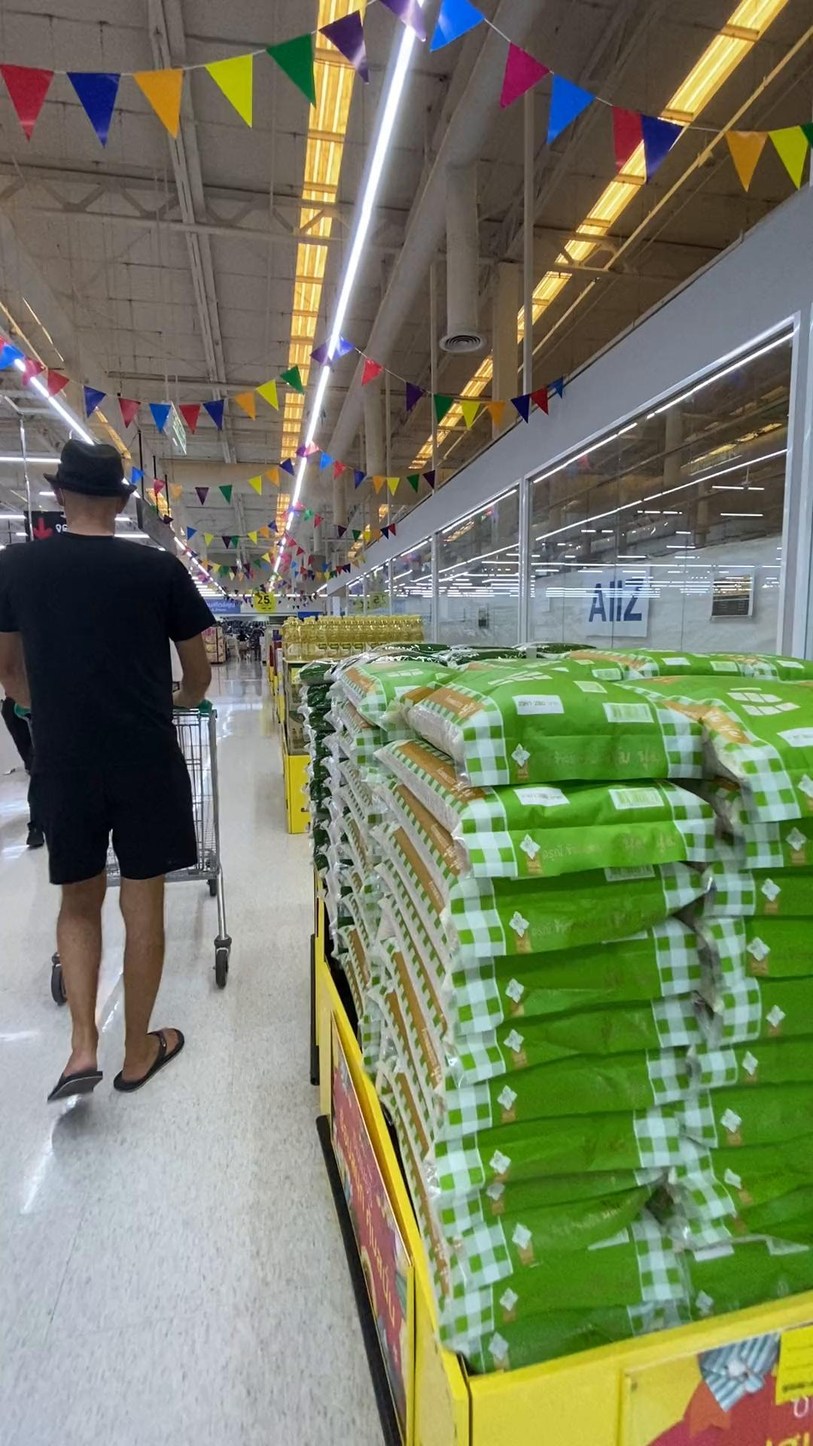Cart: (167, 701, 231, 989), (50, 951, 66, 1006)
Person: (0, 441, 211, 1100)
article: (406, 665, 700, 787)
